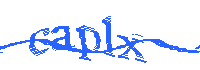a: (52, 25, 73, 50)
c: (29, 28, 51, 57)
l: (101, 14, 117, 59)
p: (75, 23, 101, 62)
x: (118, 33, 147, 64)
